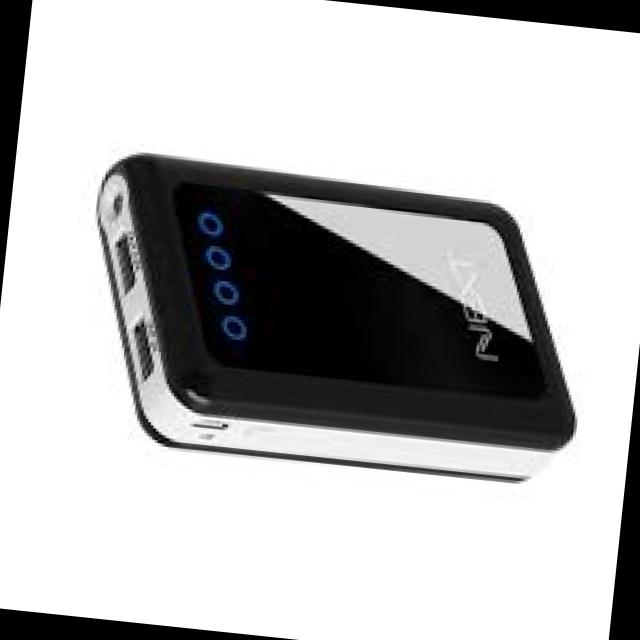power_bank: (70, 154, 603, 494)
